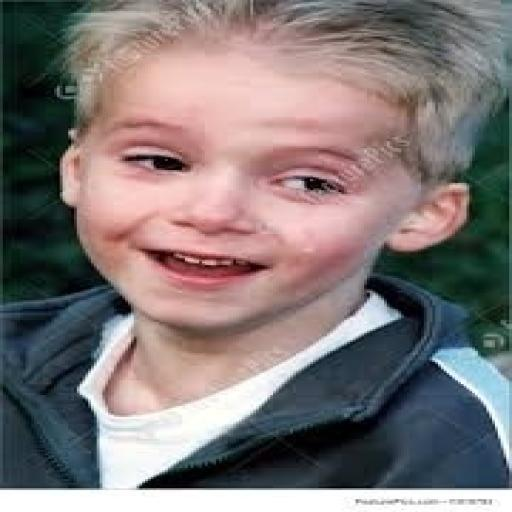laughing: (37, 0, 492, 335)
